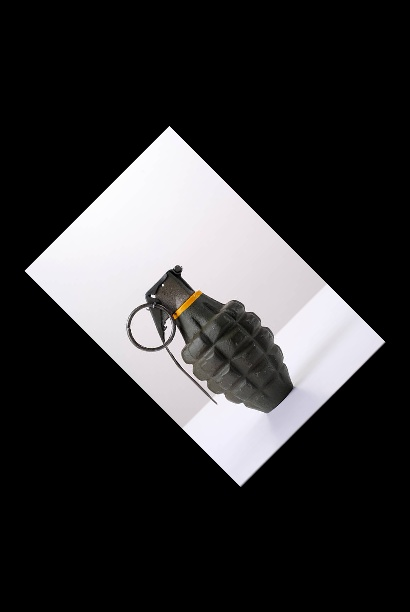e1: (128, 264, 296, 413)
